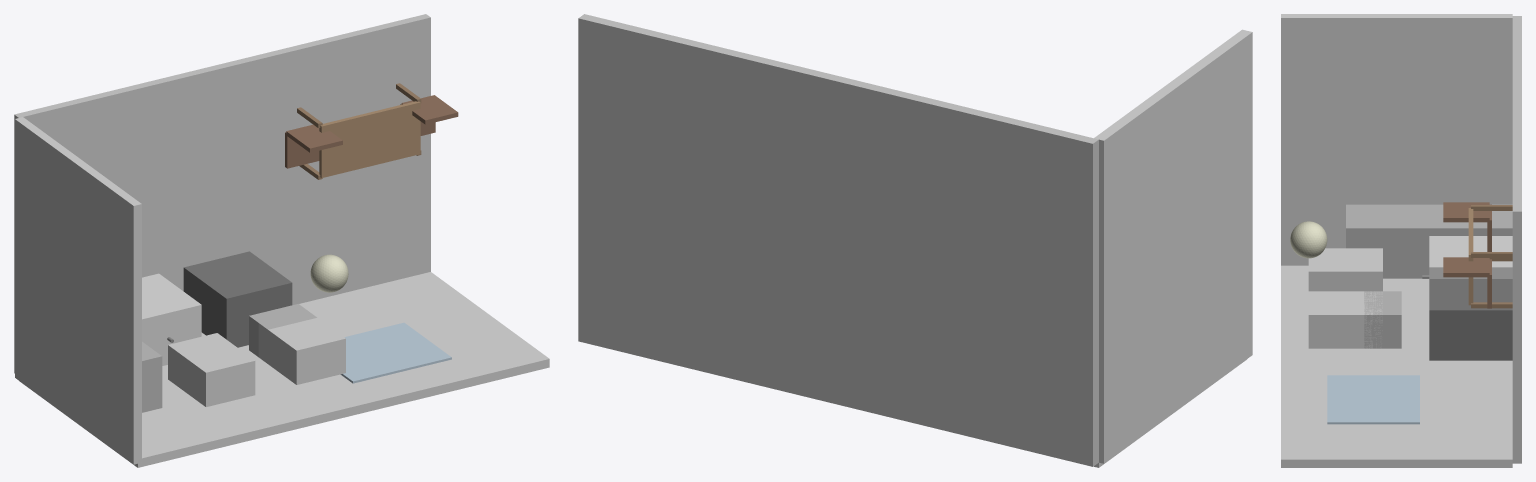
File: kitchen_final_upgraded.glb
The picture shows the model from 3 angles, left to right: view 1: azimuth 30°, elevation 25°; view 2: azimuth 150°, elevation 25°; view 3: azimuth 270°, elevation 25°; orthographic projection. The views are drawn at different scales.
Visible parts, largest first — view 1: world; view 2: world; view 3: world.
Part boxes in pixels (<box>): world: <box>14,14,549,467</box>; world: <box>578,14,1252,467</box>; world: <box>1281,14,1521,467</box>.
Size of the model in its own units: 5.05 by 3.05 by 2.6.
